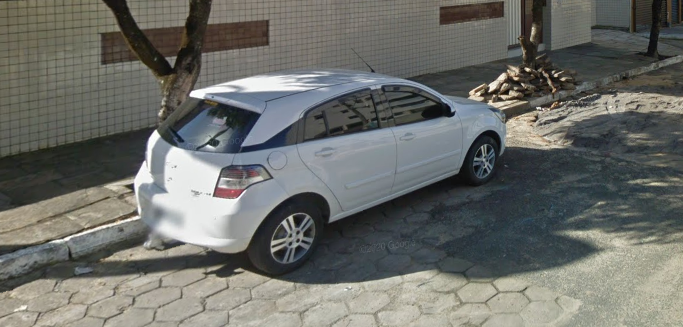car: (119, 45, 509, 277)
